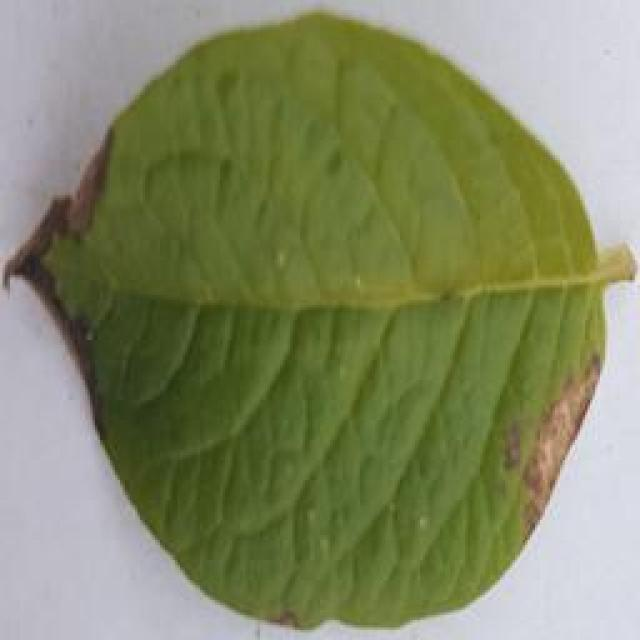Potato_Late_Blight: (7, 11, 626, 630)
